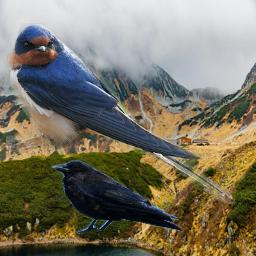Crow: (50, 160, 184, 234)
Swallow: (6, 23, 235, 204)
